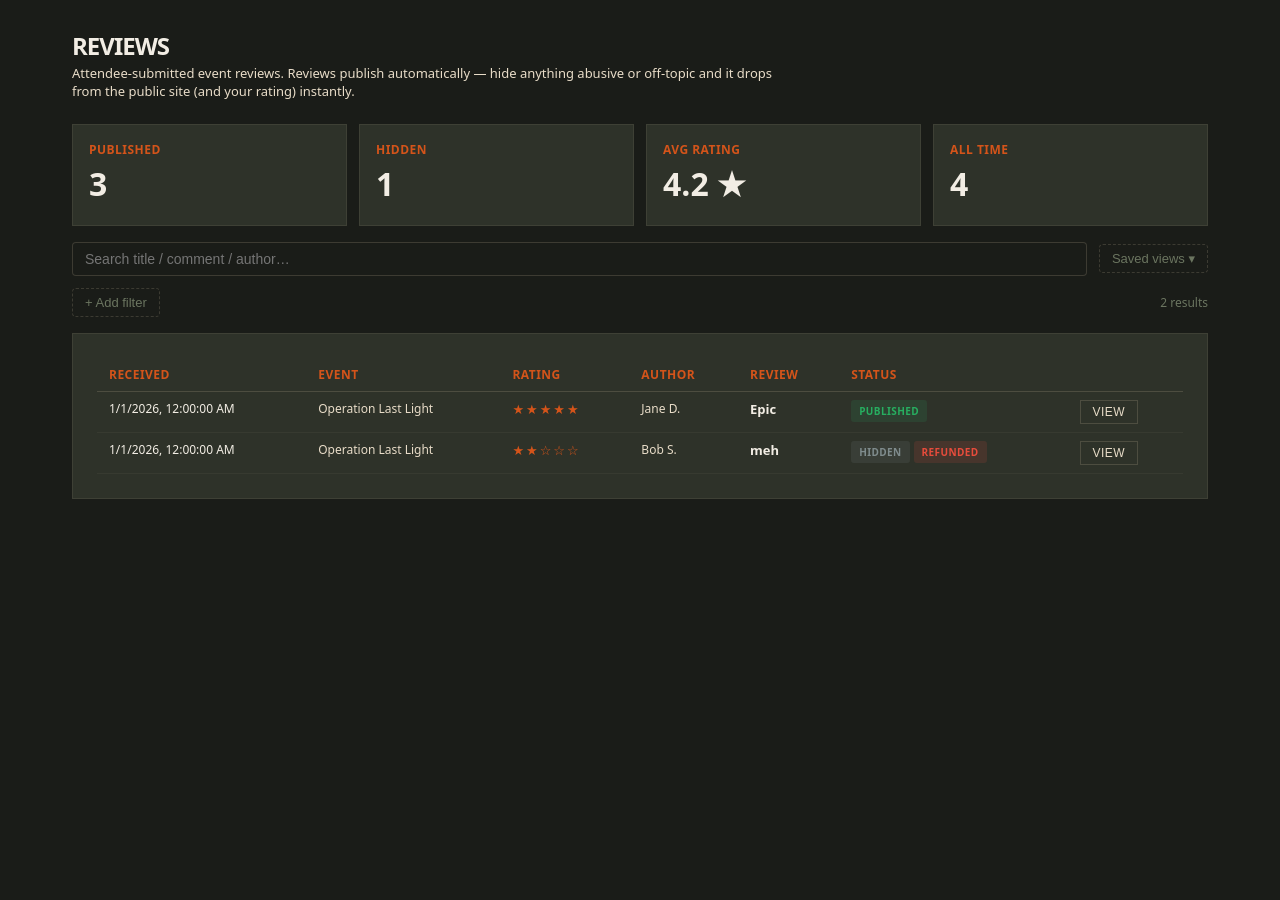
it: AdminReviews › opens the detail modal with the moderation controls
Check: the text "Jane D." is shown, box [629, 392, 738, 432]
Click the button "View" in the row of "Jane D.".
click(1109, 412)  # box [1080, 400, 1138, 424]
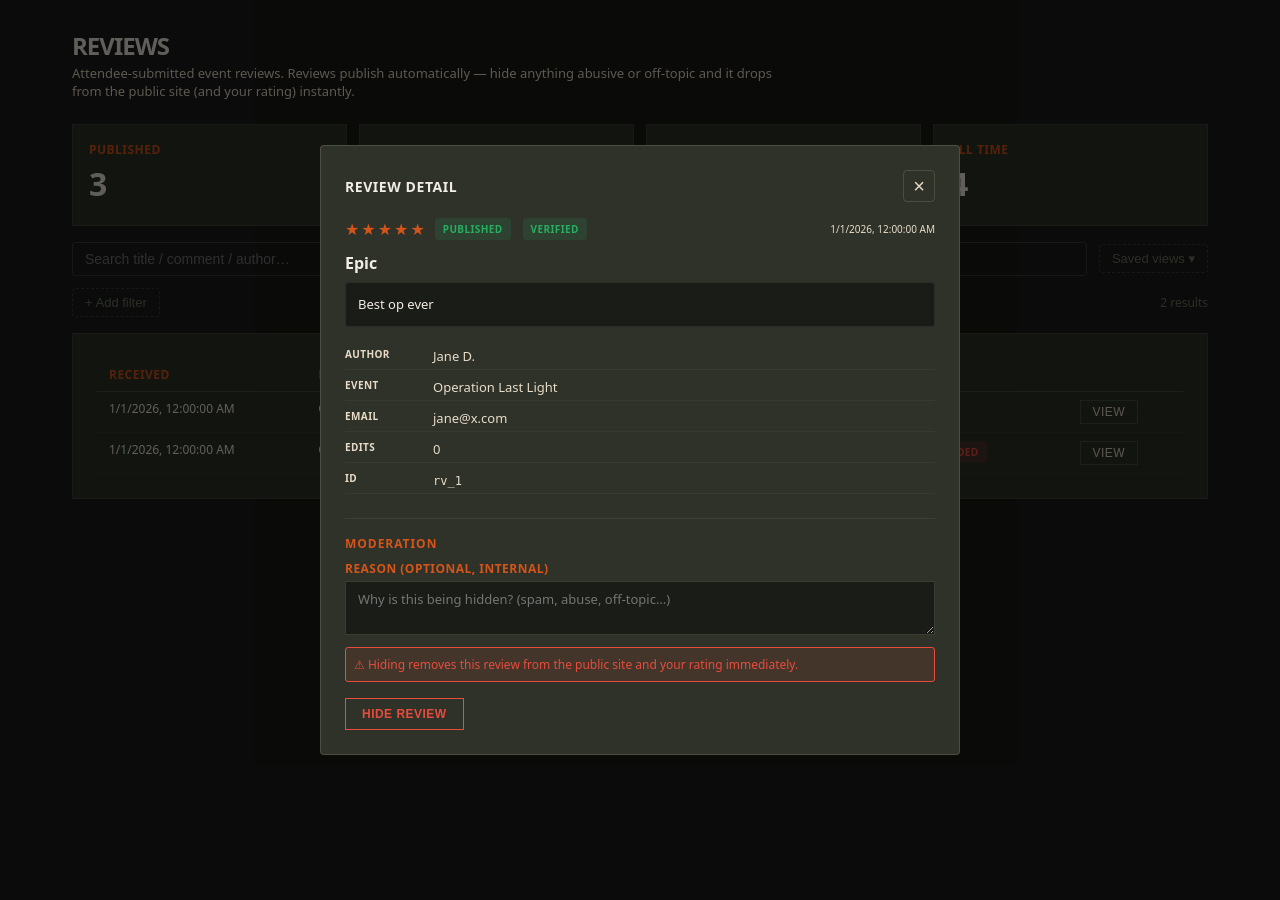
Check: the heading "Review detail" is shown, box [345, 177, 457, 196]
Check: the button "Hide review" is shown, box [345, 698, 464, 730]
Check: the text "removes this review from the public site" is shown, box [354, 656, 798, 673]
